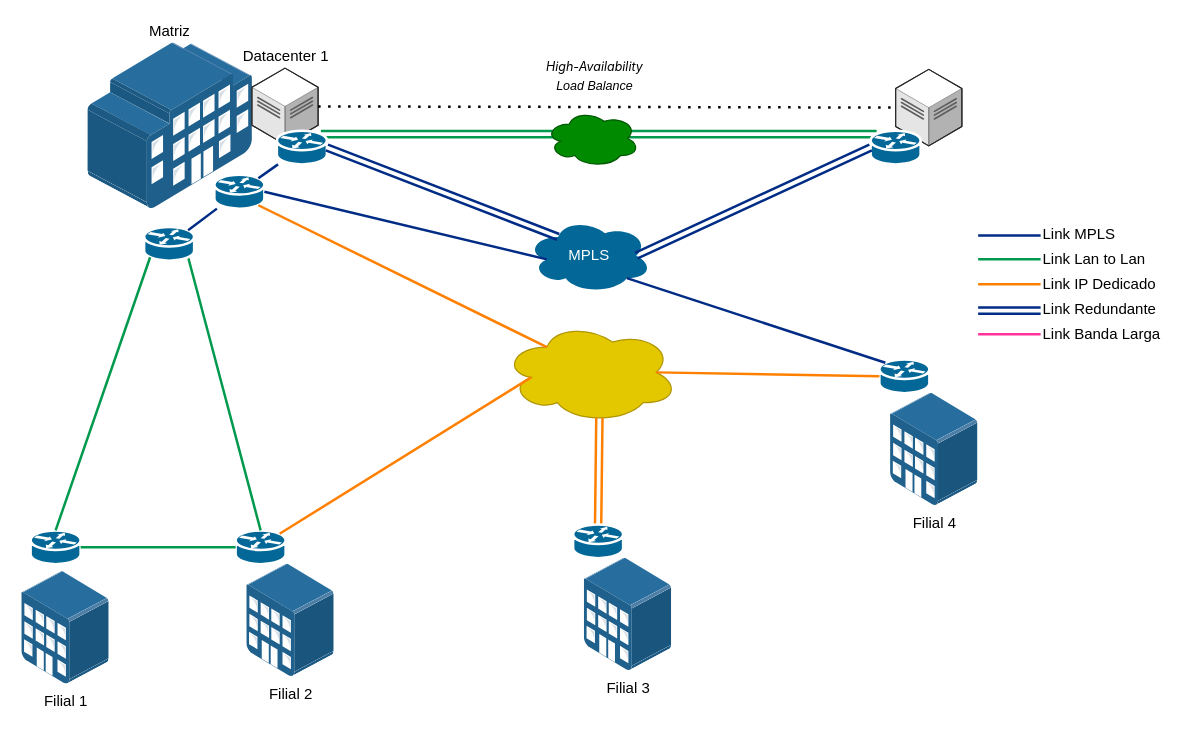
Image size: 1199x731. Some labels were removed from this diagram. The shapes that lost their labels are listed below. From the top down, each one's box as (x1, y1, x2, y2) in pixels, then its label:
(894, 68, 962, 146): Datacenter 2
(544, 109, 639, 167): Metro
(502, 321, 678, 423): INTERNET
